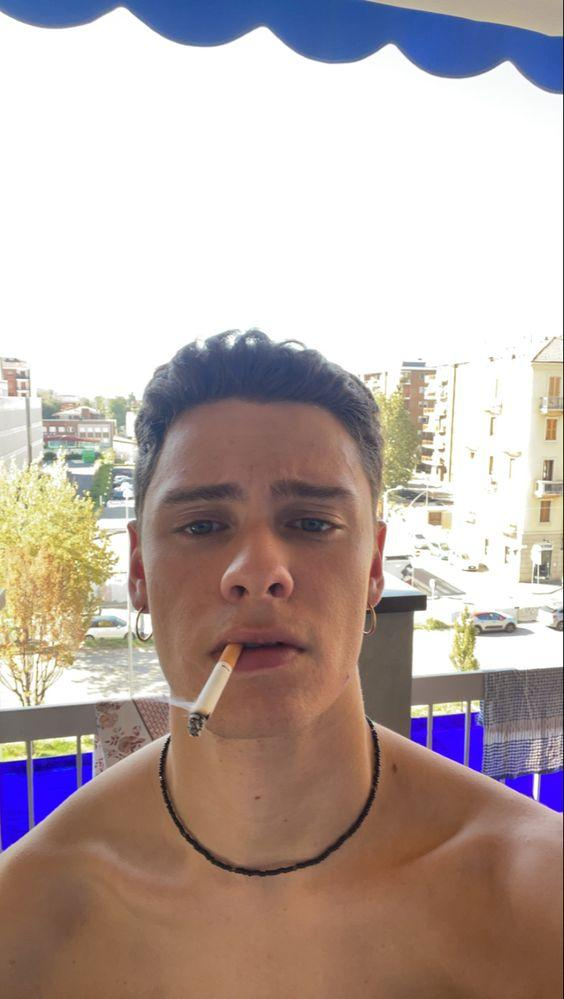cigarette: (187, 642, 245, 736)
